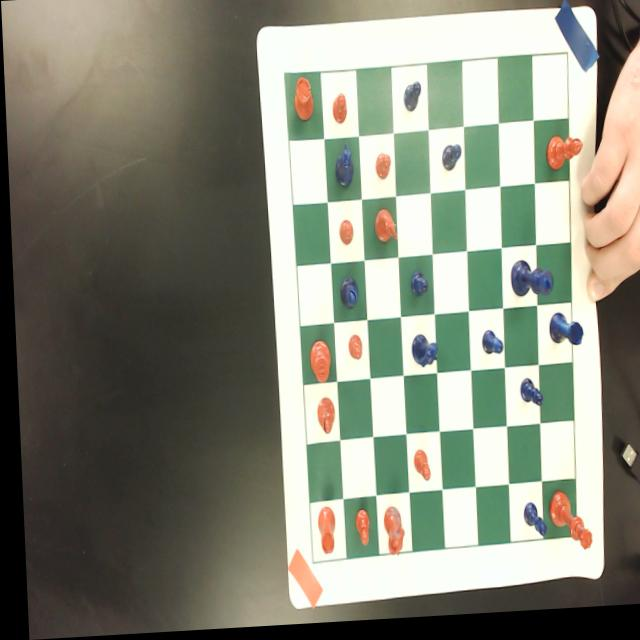B: (336, 280, 355, 312)
K: (505, 264, 550, 304)
N: (408, 339, 435, 374), (332, 144, 351, 192)
P: (517, 507, 541, 543), (514, 382, 538, 414), (400, 85, 421, 116), (477, 334, 500, 361), (406, 274, 426, 303), (438, 148, 459, 175)
R: (544, 318, 580, 355)
b: (543, 139, 582, 178), (312, 399, 331, 438)
cb: (283, 59, 570, 566)
k: (304, 342, 327, 386)
n: (376, 508, 399, 561), (370, 212, 395, 248)
p: (348, 510, 365, 550), (408, 453, 425, 487), (329, 95, 346, 129), (372, 156, 390, 184), (335, 222, 352, 250), (344, 338, 359, 365)
q: (543, 494, 587, 558)
r: (290, 78, 314, 125), (310, 510, 333, 558)
